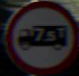Heavy Vehicles: (5, 4, 73, 60)
